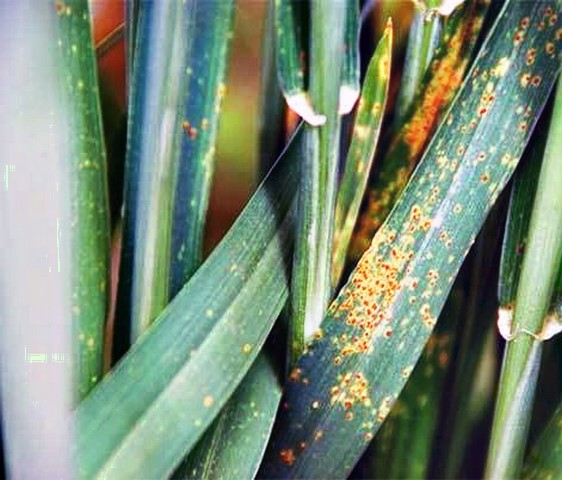Leaf Rust: (319, 6, 562, 428)
